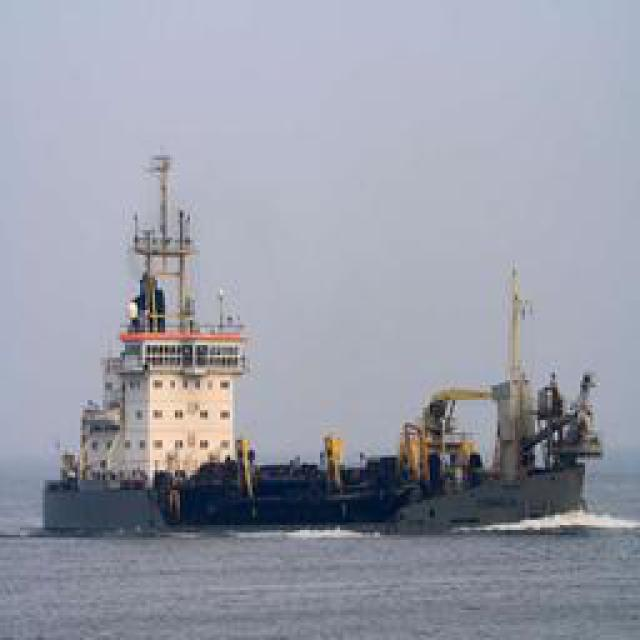Ship: (23, 144, 609, 550)
